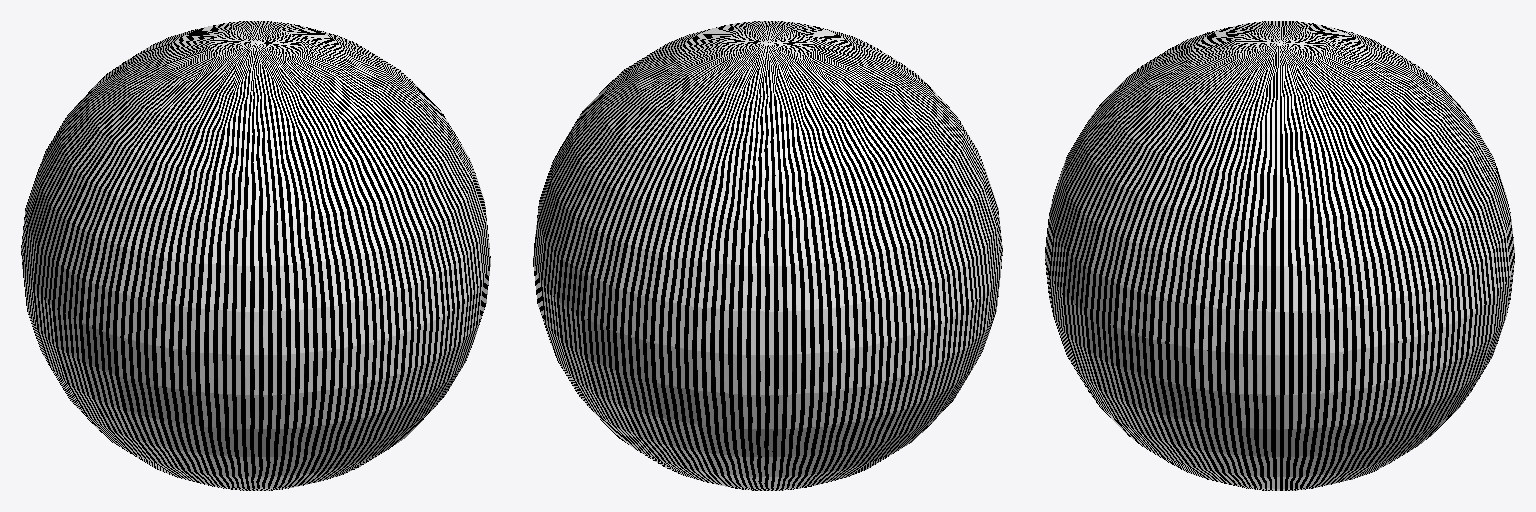
3 renders of one model, left to right at view 1: azimuth 30°, elevation 25°; view 2: azimuth 150°, elevation 25°; view 3: azimuth 270°, elevation 25°, orthographic.
Visible parts, largest first — view 1: Sphere; view 2: Sphere; view 3: Sphere.
Part boxes in pixels (left/top/right/bottom): Sphere: left=21, top=21, right=490, bottom=490; Sphere: left=533, top=21, right=1002, bottom=490; Sphere: left=1045, top=21, right=1514, bottom=490.
Bounding box in the file's own units: 3.96 × 3.96 × 3.96.
Materials: 1 (1 with a texture image).